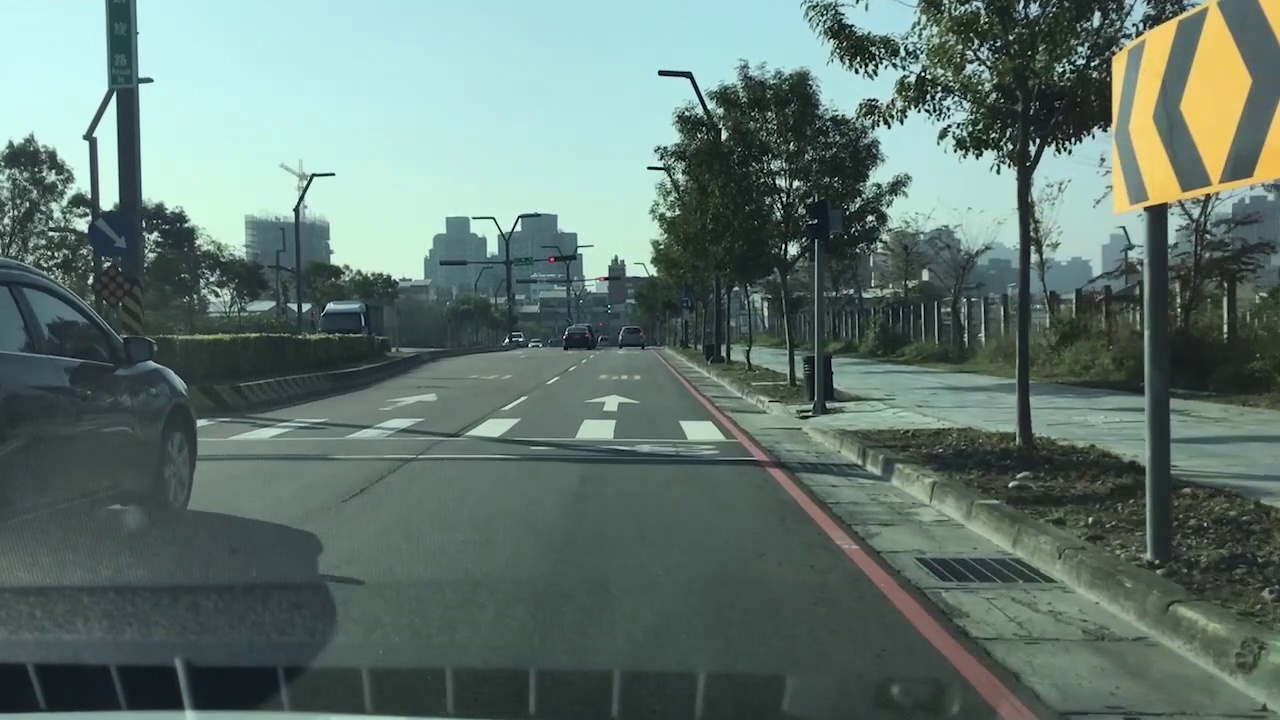Pedestrian_Crossing: (208, 413, 733, 437)
